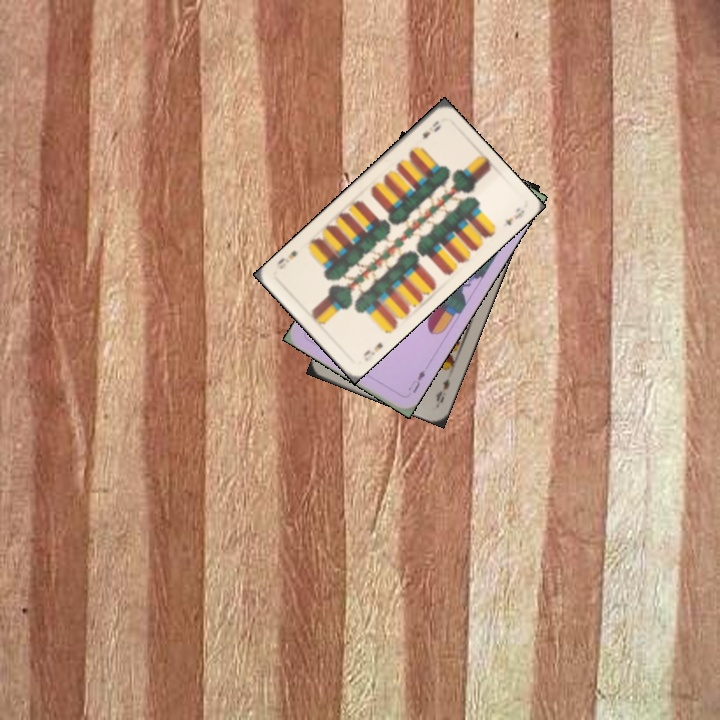E9: (359, 338, 385, 364), (432, 375, 452, 408), (418, 117, 444, 142)
EU: (404, 366, 428, 396)
